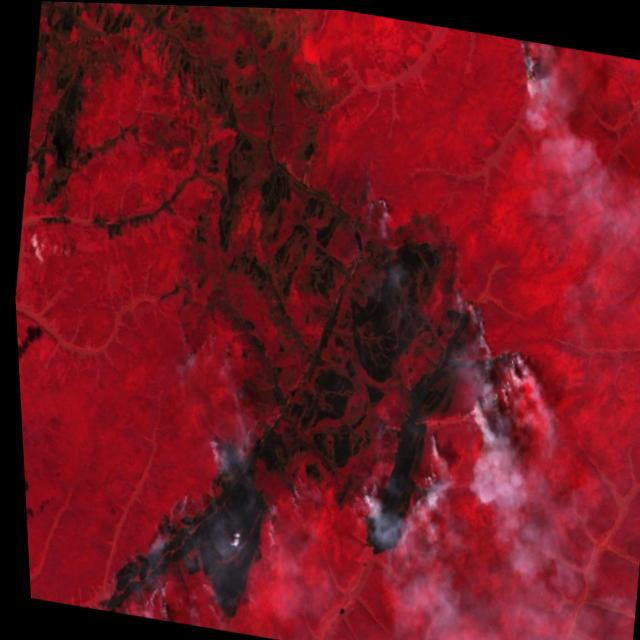fire: (93, 322, 328, 640), (437, 282, 544, 453), (340, 408, 445, 566), (354, 181, 403, 237), (507, 36, 552, 95)
